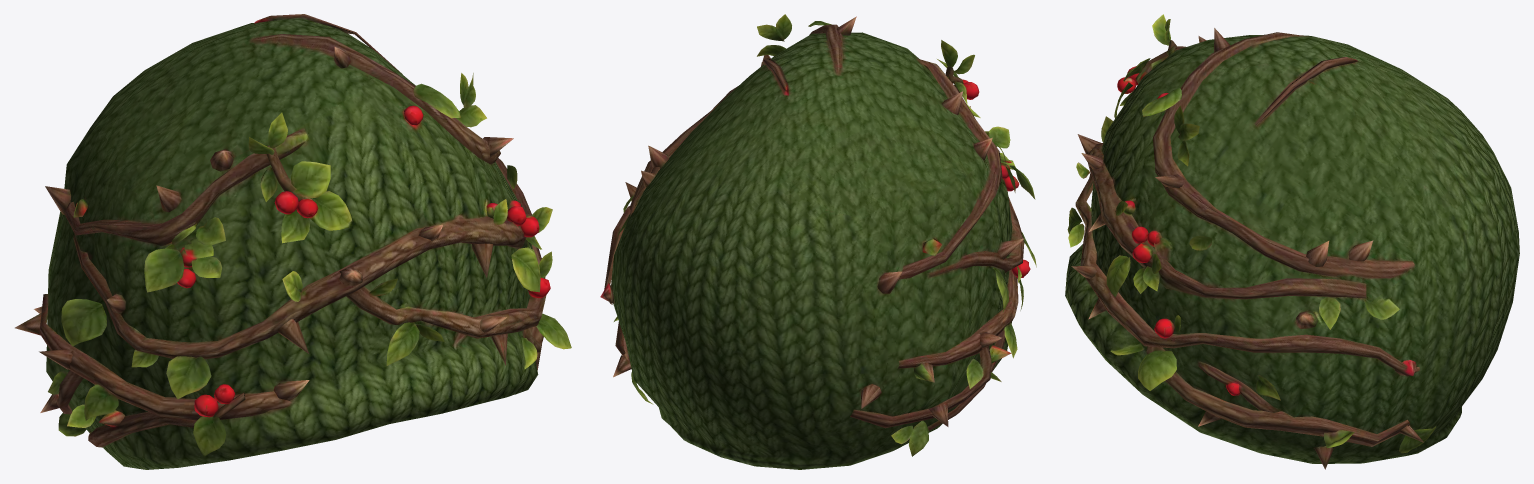
Rendered from hat_ronces.glb.
3 renders of one model, left to right at view 1: azimuth 30°, elevation 25°; view 2: azimuth 150°, elevation 25°; view 3: azimuth 270°, elevation 25°, orthographic. The views are drawn at different scales.
Size of the model in its own units: 0.958 by 0.8428 by 0.896.
1 material, 1 textured.
